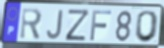8: (114, 9, 134, 43)
F: (89, 9, 113, 42)
J: (45, 9, 64, 41)
O: (134, 10, 160, 44)
R: (19, 7, 44, 41)
Z: (65, 8, 92, 43)
